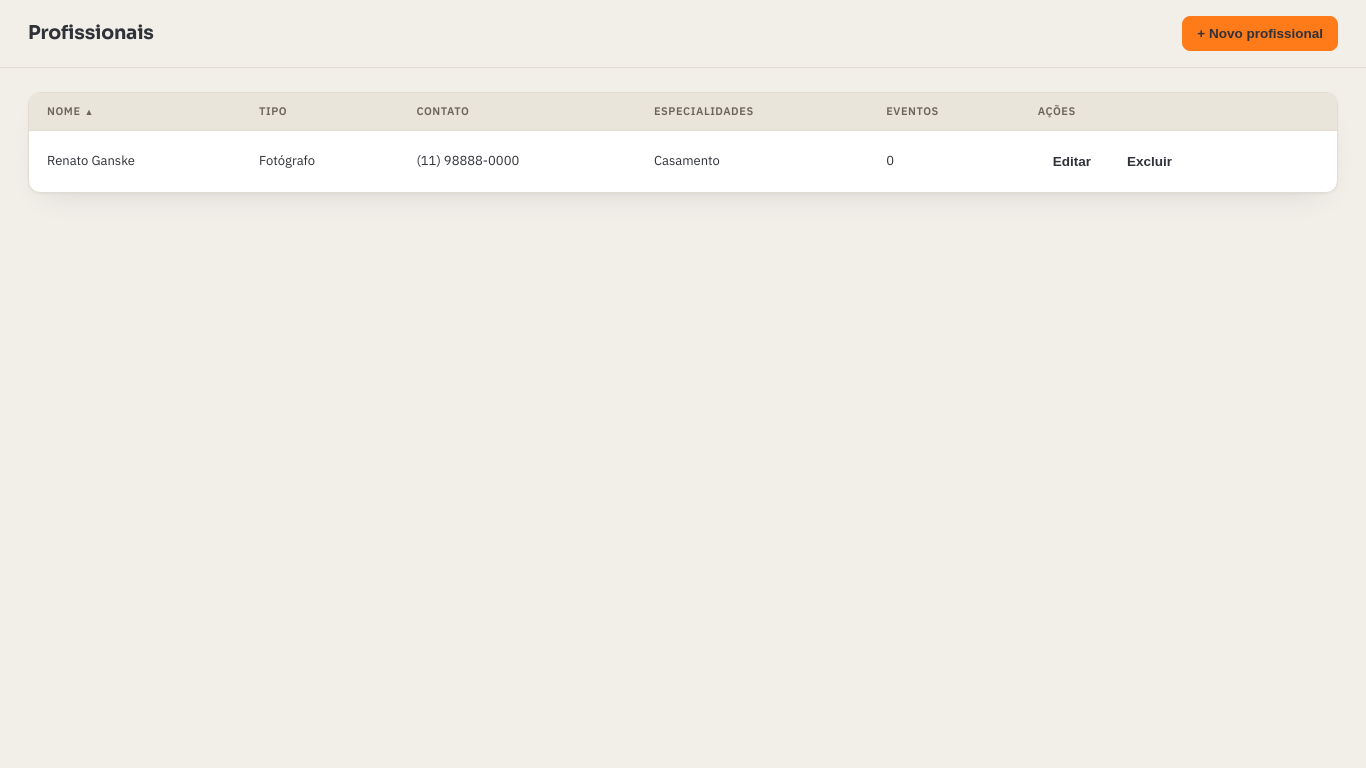
ProfessionalsPage › mantém o modal de exclusão aberto com erro inline quando a exclusão falha
Expected: the text "Renato Ganske" is shown, [29,130,241,192]
Click the button "Excluir": (1150,161) [1112,144,1187,178]
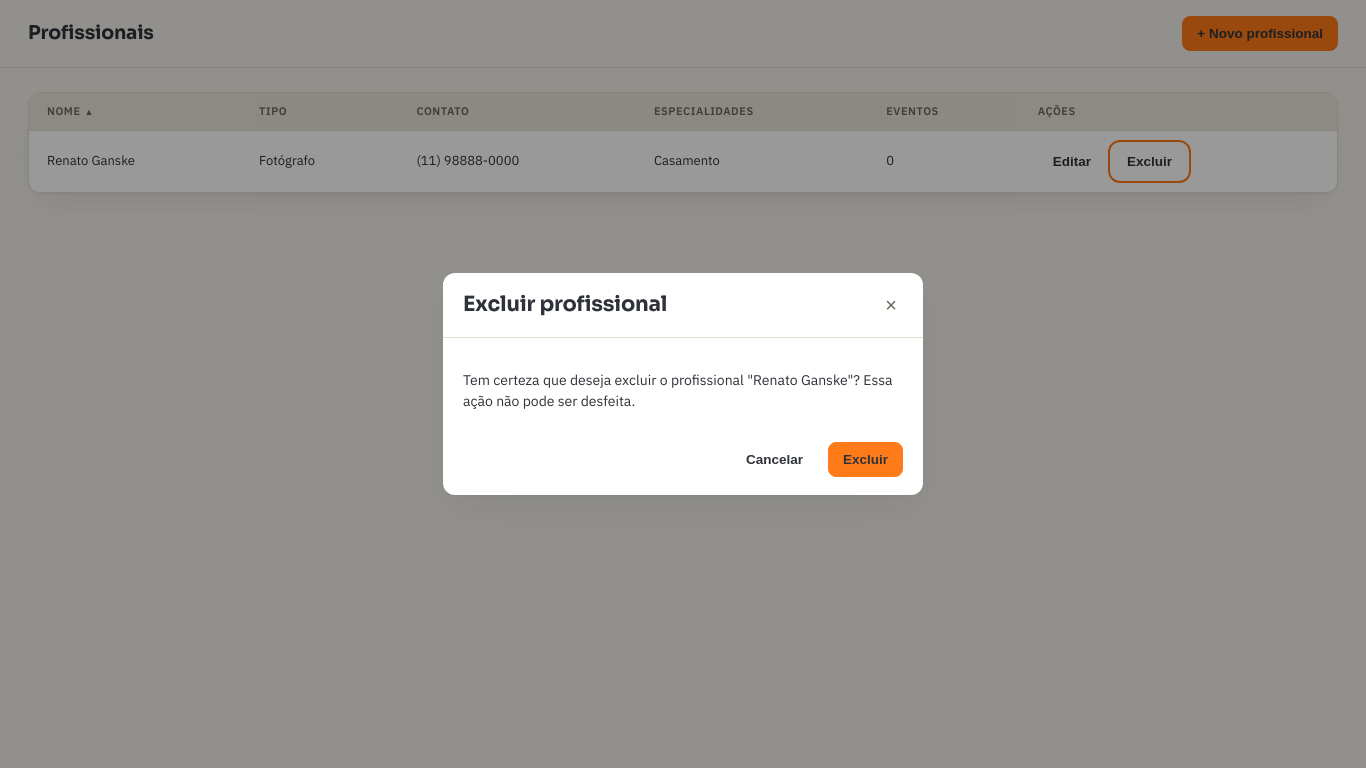
Click the button "Excluir": (866,459) [828,442,903,477]
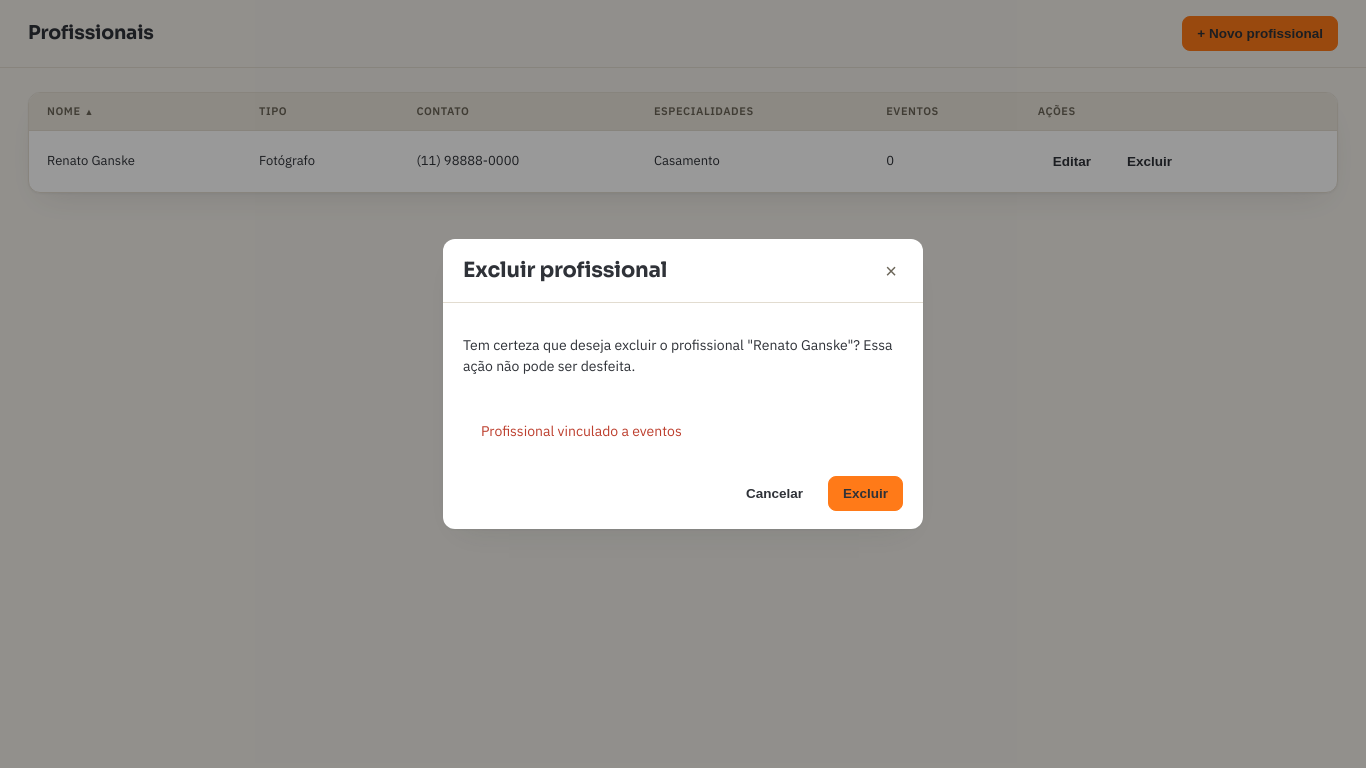
Expected: the text "Renato Ganske" is shown, [29,130,241,192]
Now the text "Profissional vinculado a eventos" is shown, box [481,422,682,440]
